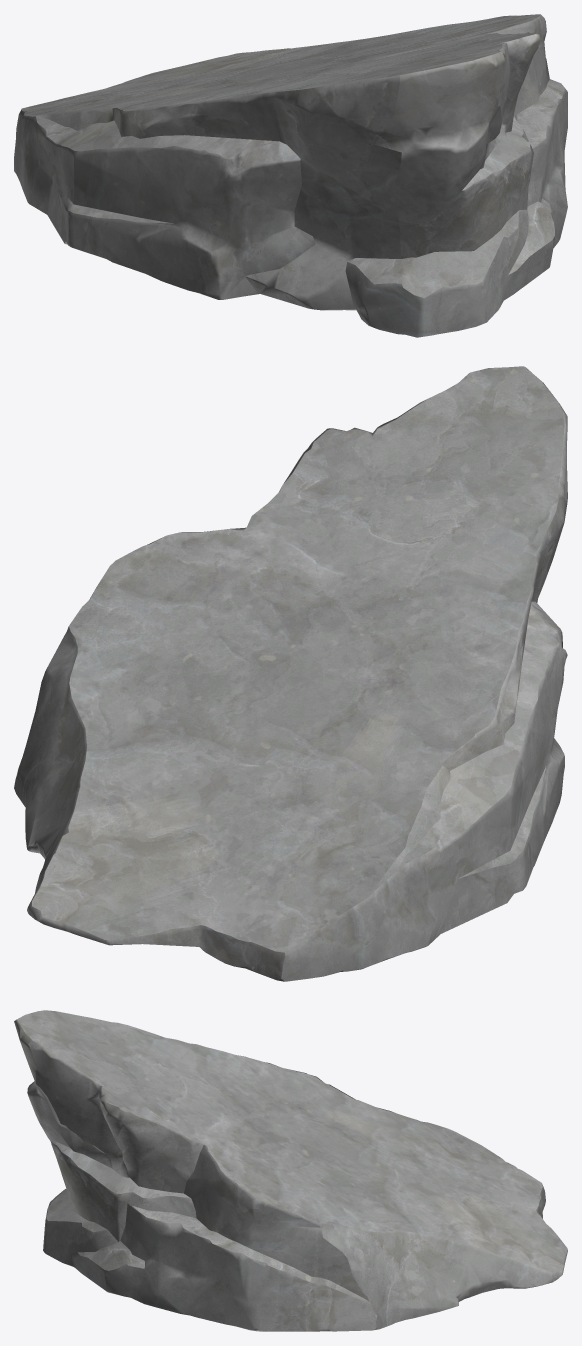
File: SM_Com_Roc_44AM.fbx
3 views of the same model, one above another, from view 1: azimuth 30°, elevation 25°; view 2: azimuth 150°, elevation 25°; view 3: azimuth 270°, elevation 25° (orthographic). The views are drawn at different scales.
Parts seen in each view (by area): view 1: SM_Com_Roc_44AM.mo; view 2: SM_Com_Roc_44AM.mo; view 3: SM_Com_Roc_44AM.mo.
Part boxes in pixels (x1,y1,x2,y2): SM_Com_Roc_44AM.mo: [14, 14, 567, 337]; SM_Com_Roc_44AM.mo: [14, 366, 567, 981]; SM_Com_Roc_44AM.mo: [14, 1010, 567, 1331].
Bounding box in the file's own units: 41.77 × 26.35 × 57.14.
